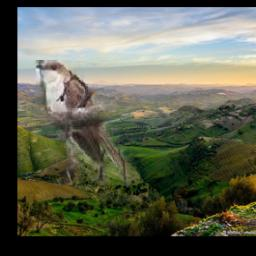Cuckoo: (36, 60, 142, 185)
